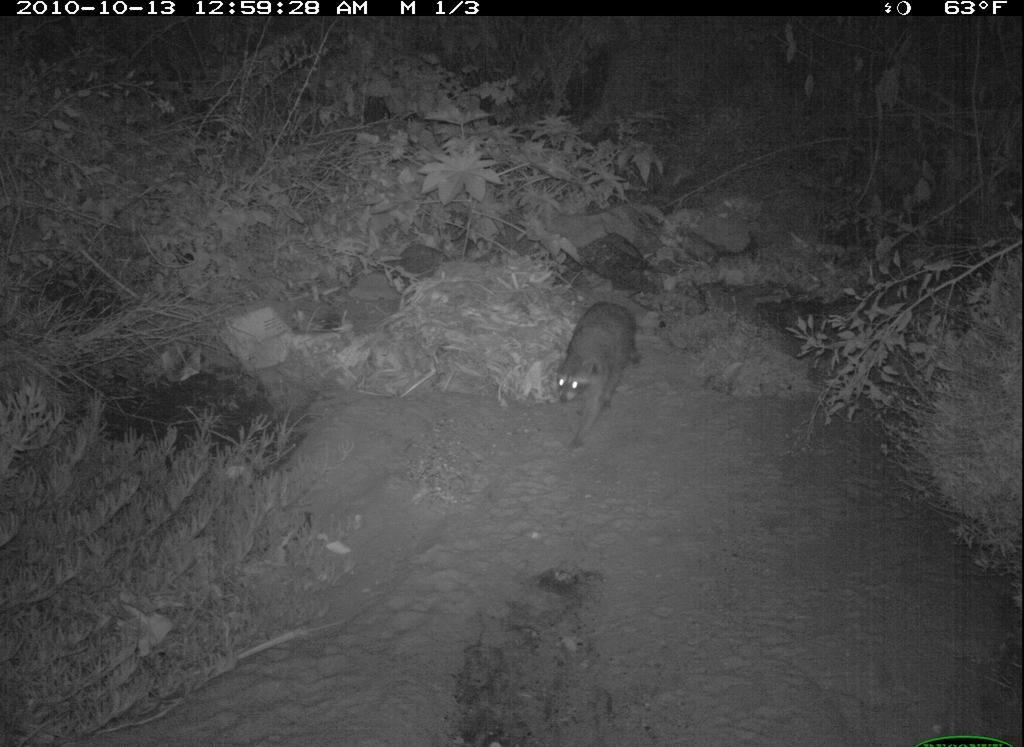raccoon: (523, 287, 642, 447)
